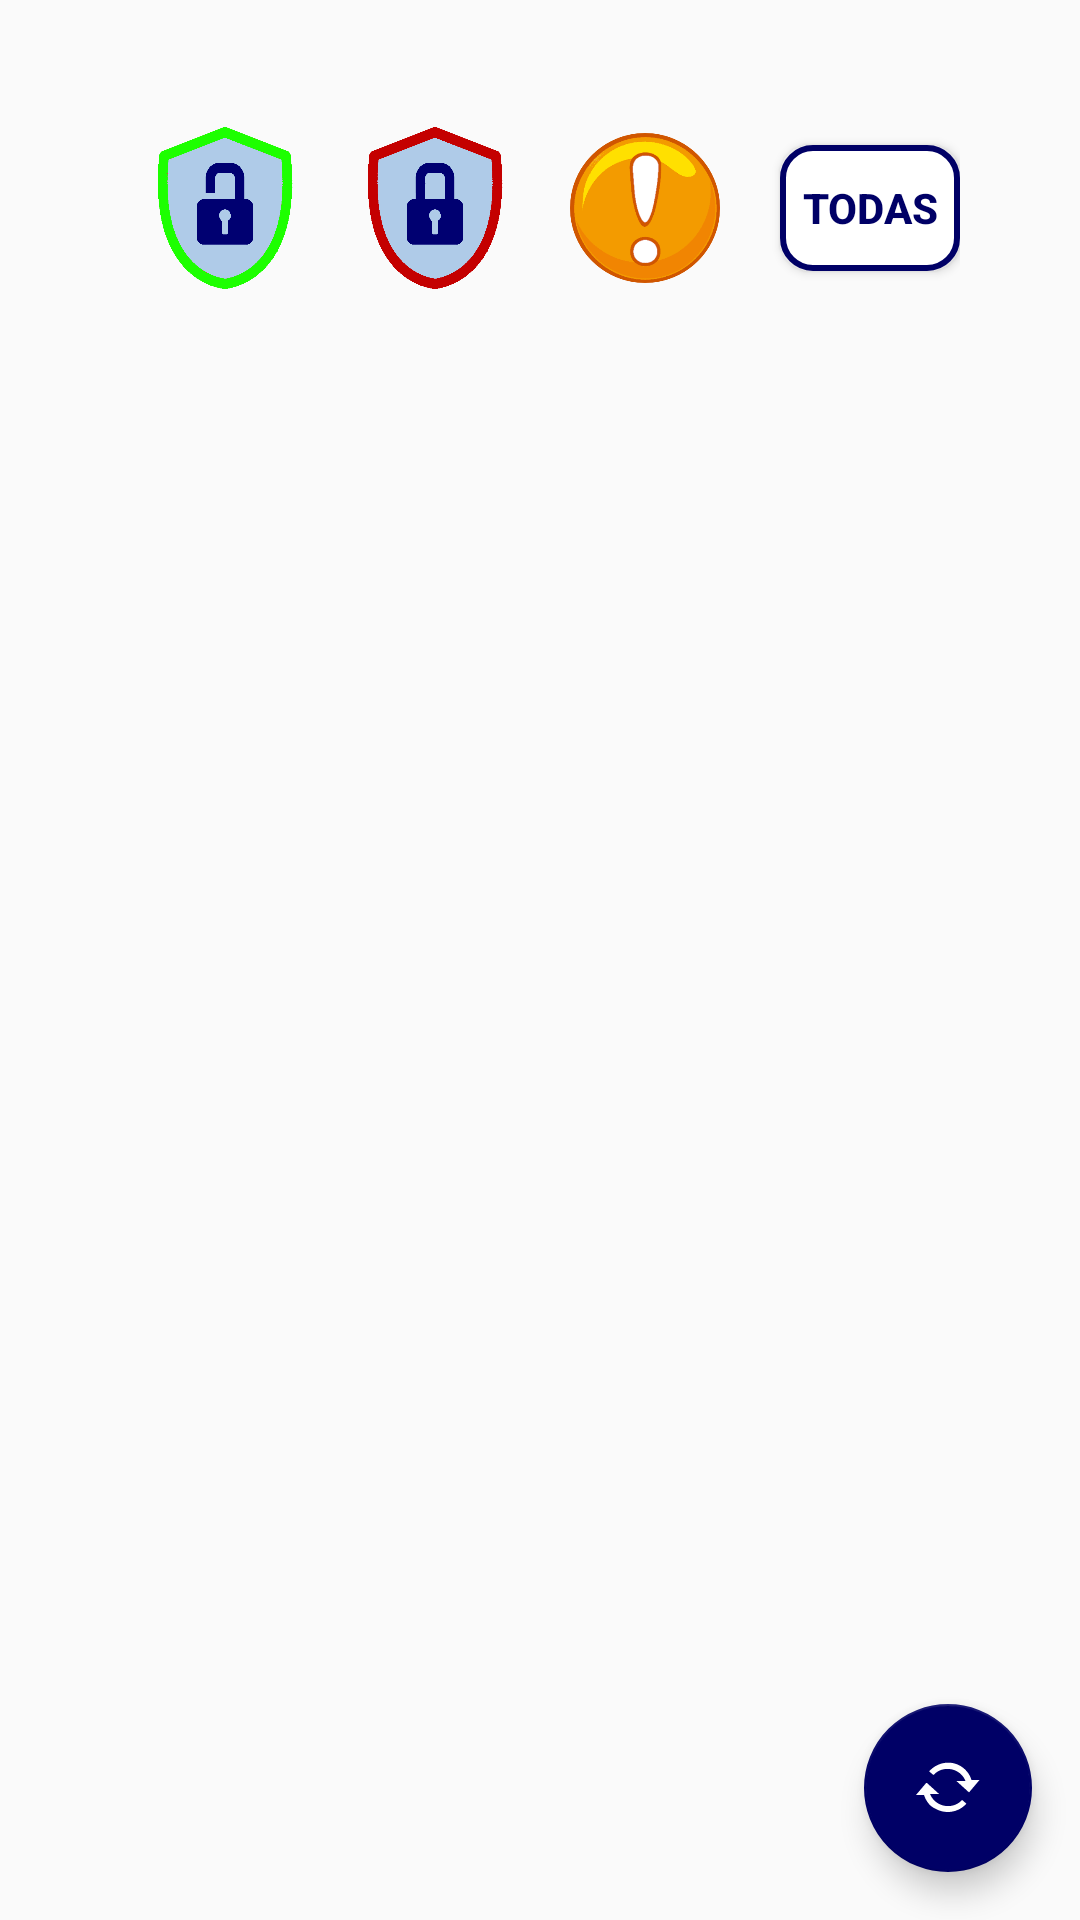

Named icons in this screenshot (1080×1920) and their centers, (x=x, y=y):
alerta: (x=645, y=208)
candado: (x=225, y=208)
candadoce: (x=435, y=208)
sync: (x=948, y=1788)
